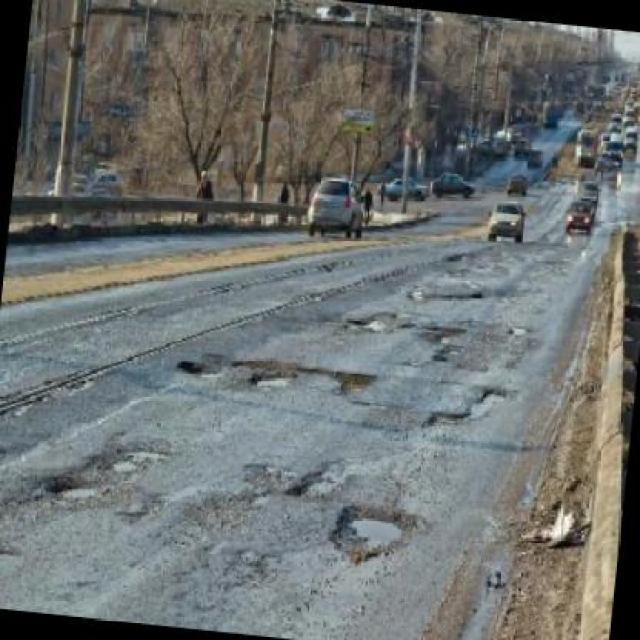pothole1: (329, 487, 422, 570), (420, 370, 518, 445), (174, 345, 232, 383), (245, 360, 301, 398), (345, 300, 406, 334)
